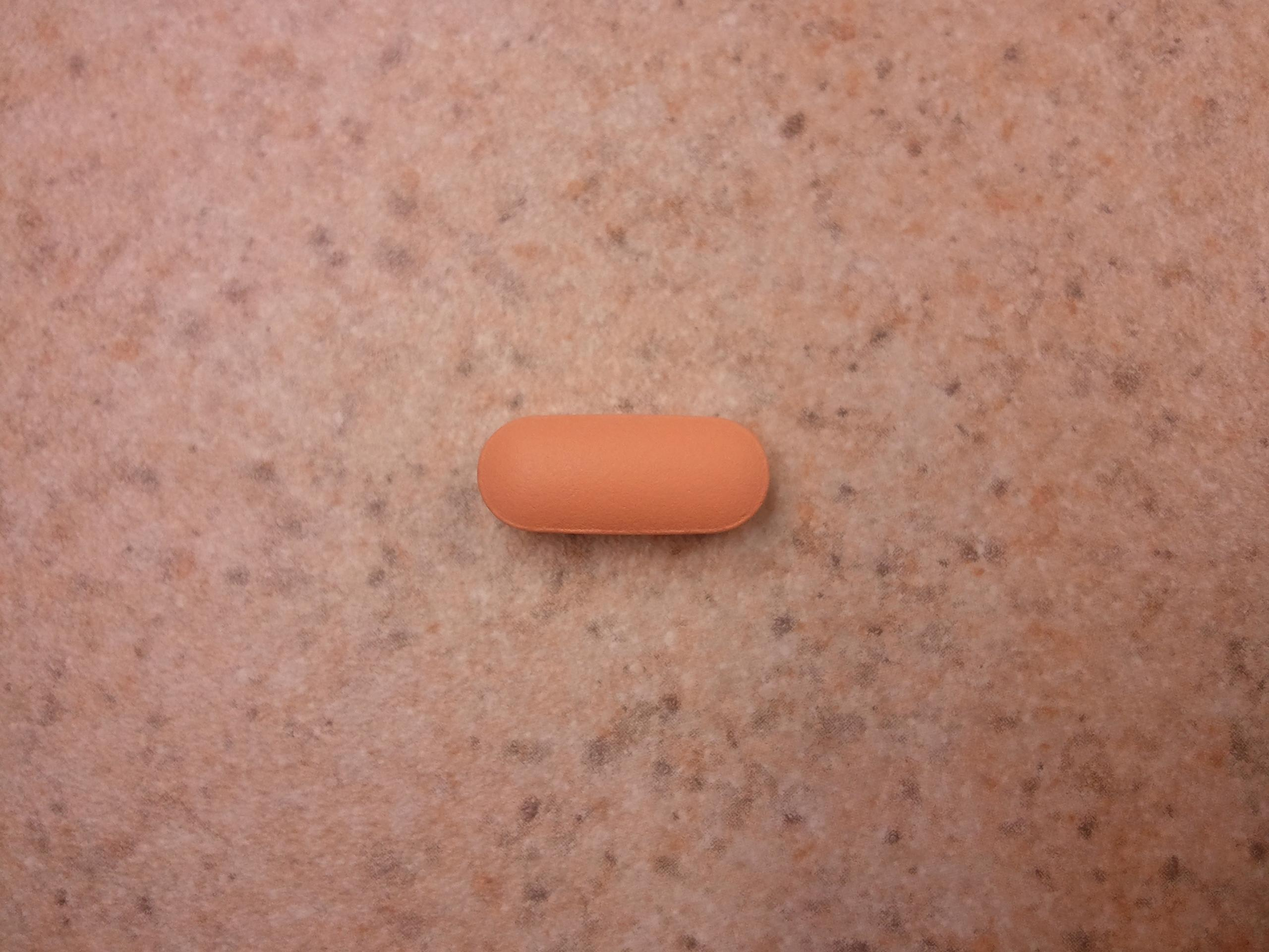Pill: (471, 403, 778, 544)
